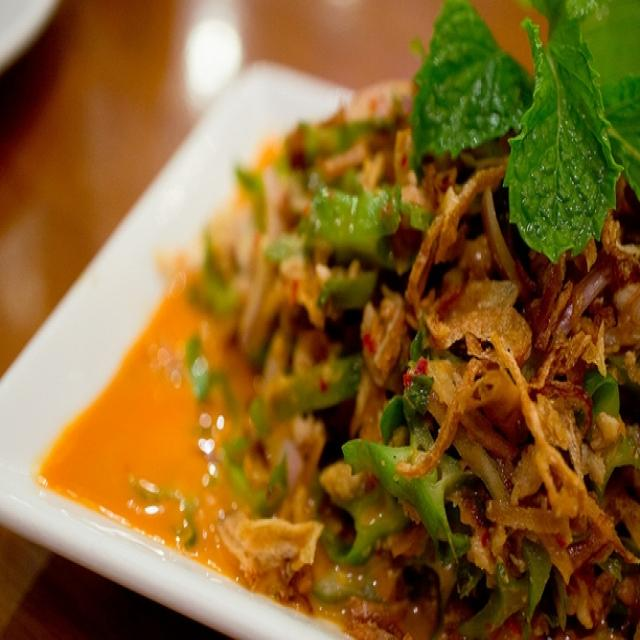鸡肉料理 含炸鸡: (47, 23, 616, 615)
